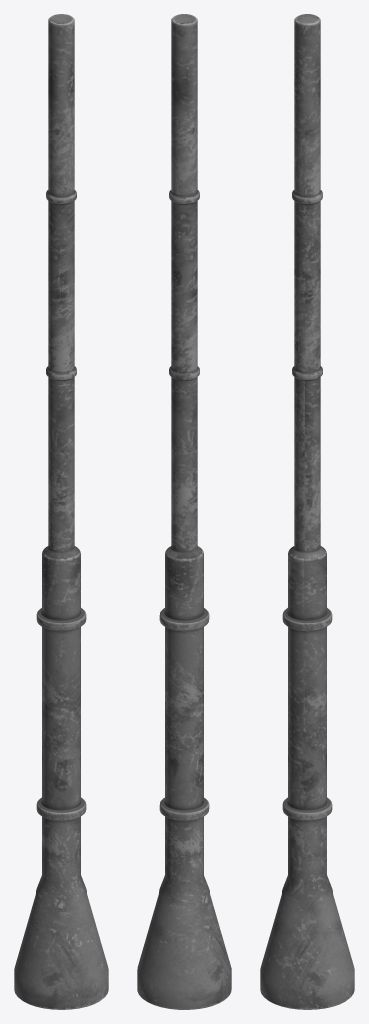
Rendered from SM_MedievalLanternBase.fbx.
The picture shows the model from 3 angles, left to right: view 1: azimuth 90°, elevation 25°; view 2: azimuth 150°, elevation 25°; view 3: azimuth 270°, elevation 25°; orthographic projection.
Parts seen in each view (by area): view 1: SM_MedievalLanternBase_LOD0; view 2: SM_MedievalLanternBase_LOD0; view 3: SM_MedievalLanternBase_LOD0.
Boxes of the visible parts, x1=… form: SM_MedievalLanternBase_LOD0: x1=14, y1=14, x2=108, y2=1009; SM_MedievalLanternBase_LOD0: x1=137, y1=14, x2=231, y2=1009; SM_MedievalLanternBase_LOD0: x1=260, y1=14, x2=354, y2=1009.
Size of the model in its own units: 19.14 by 19.15 by 217.
1 material, 1 textured.
